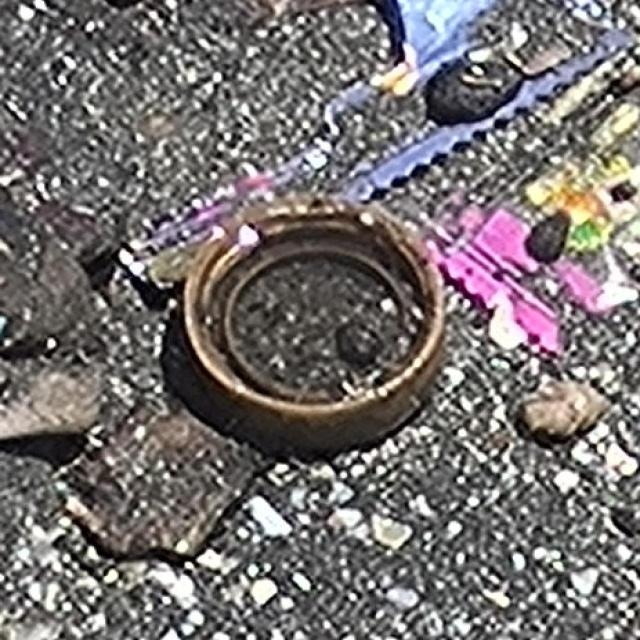plastic_waste: (180, 202, 450, 454), (412, 90, 640, 357)
